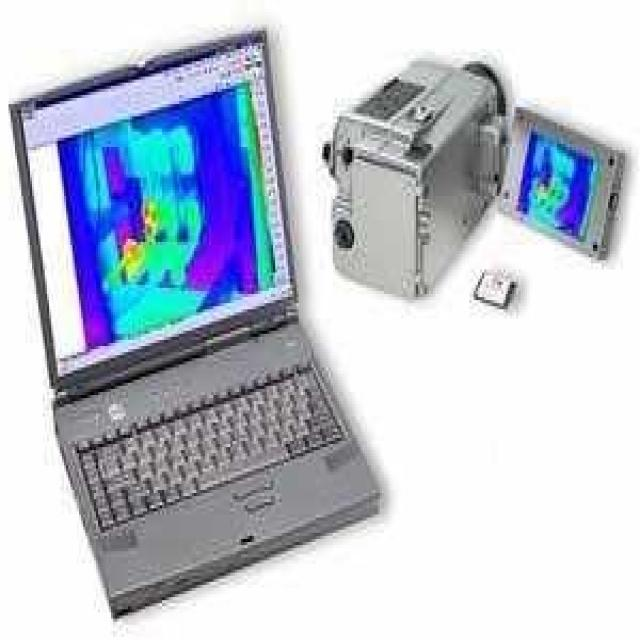laptop: (0, 19, 371, 604)
